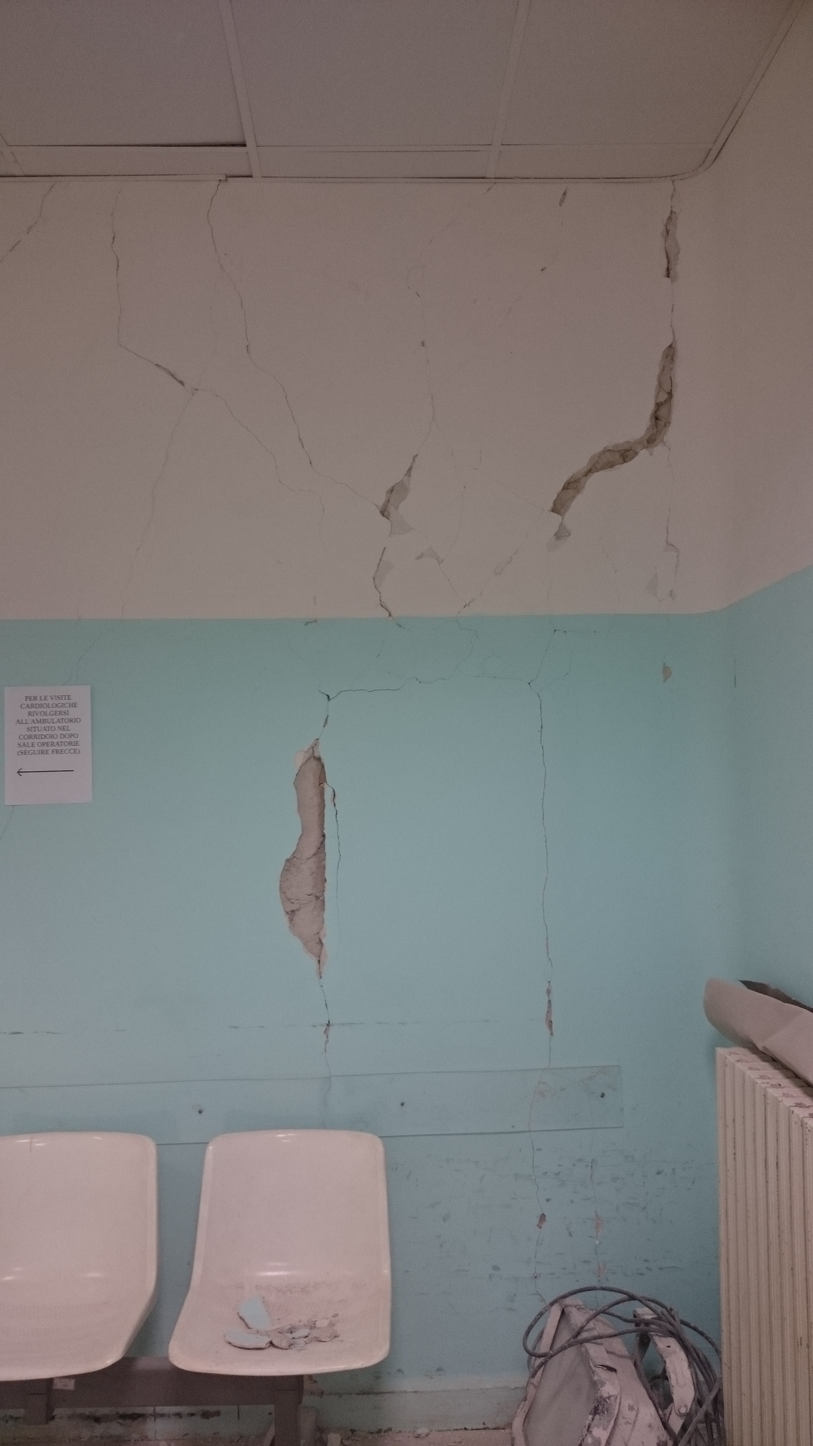Crack: (5, 189, 533, 660), (311, 663, 568, 1302), (535, 172, 698, 564), (1, 993, 566, 1051), (546, 463, 686, 678)
Spalling: (276, 739, 332, 981), (650, 369, 676, 425)
